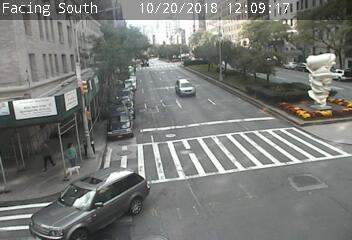carw: (30, 170, 154, 237), (174, 77, 196, 96)
